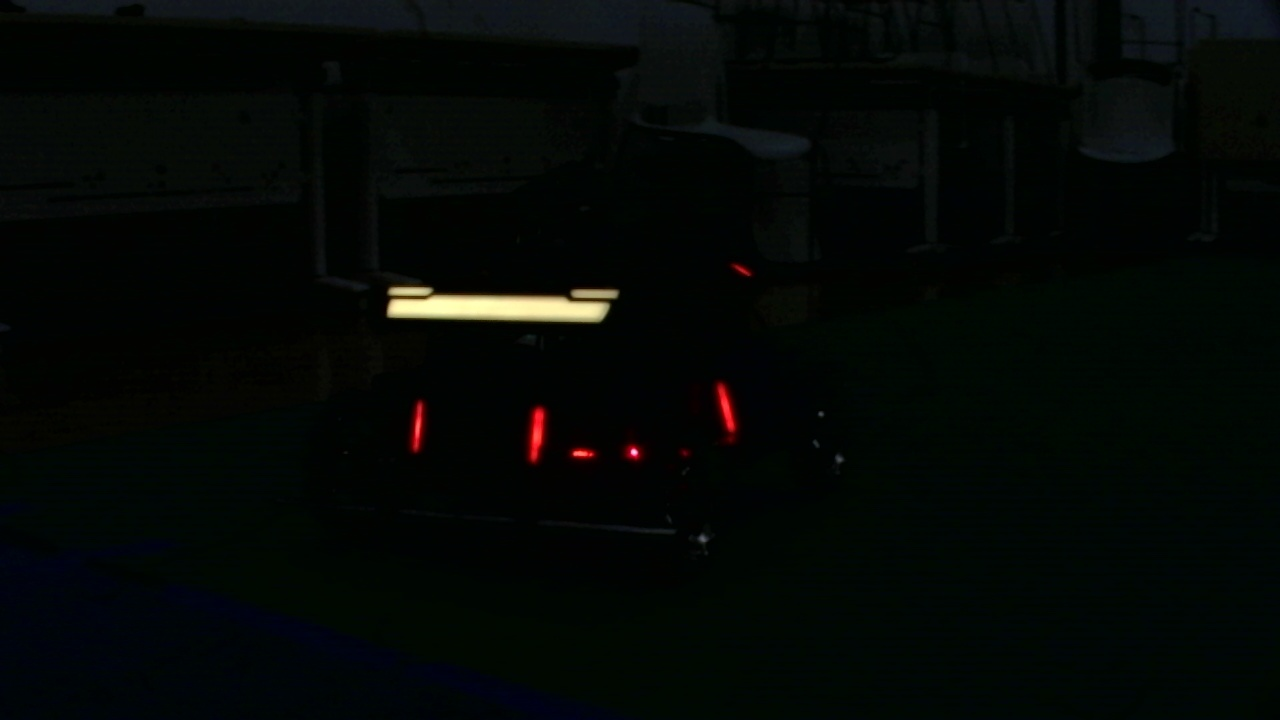lamp: (715, 378, 743, 441), (525, 397, 547, 465), (407, 396, 425, 464)
notpair1: (531, 380, 741, 462)
pair1: (408, 398, 547, 466)
